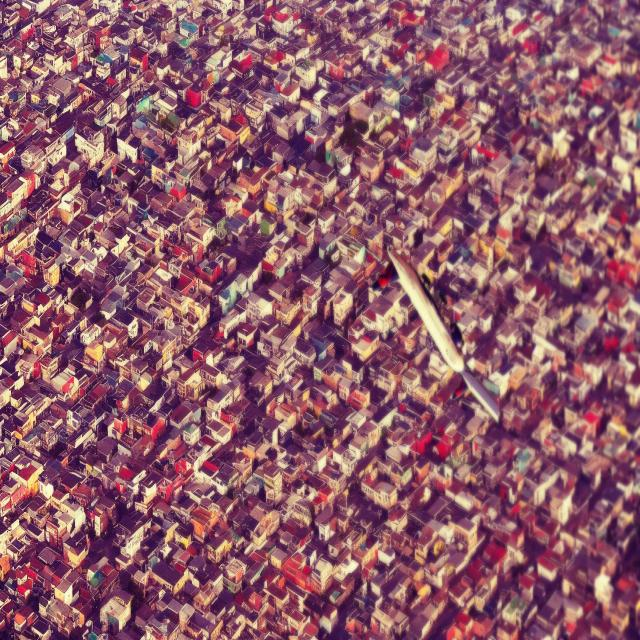airplane: (386, 243, 500, 425)
